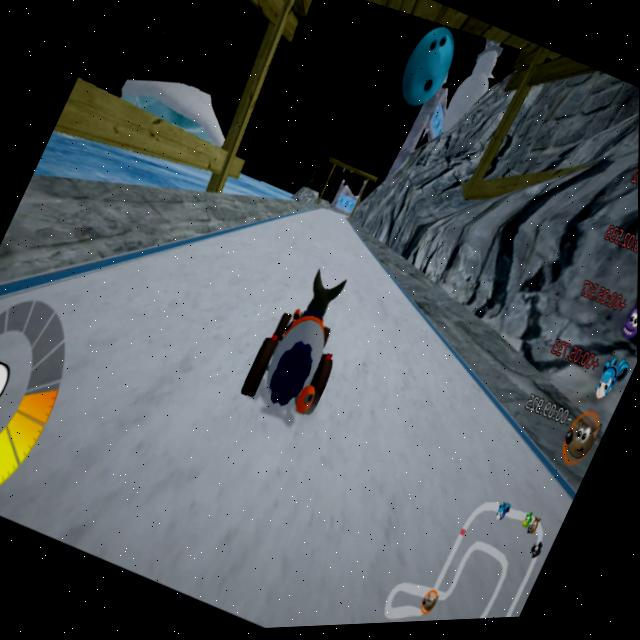player_kart: (235, 258, 373, 437)
track: (291, 194, 377, 273)
